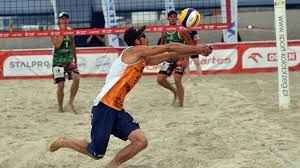ball: (179, 7, 201, 29)
